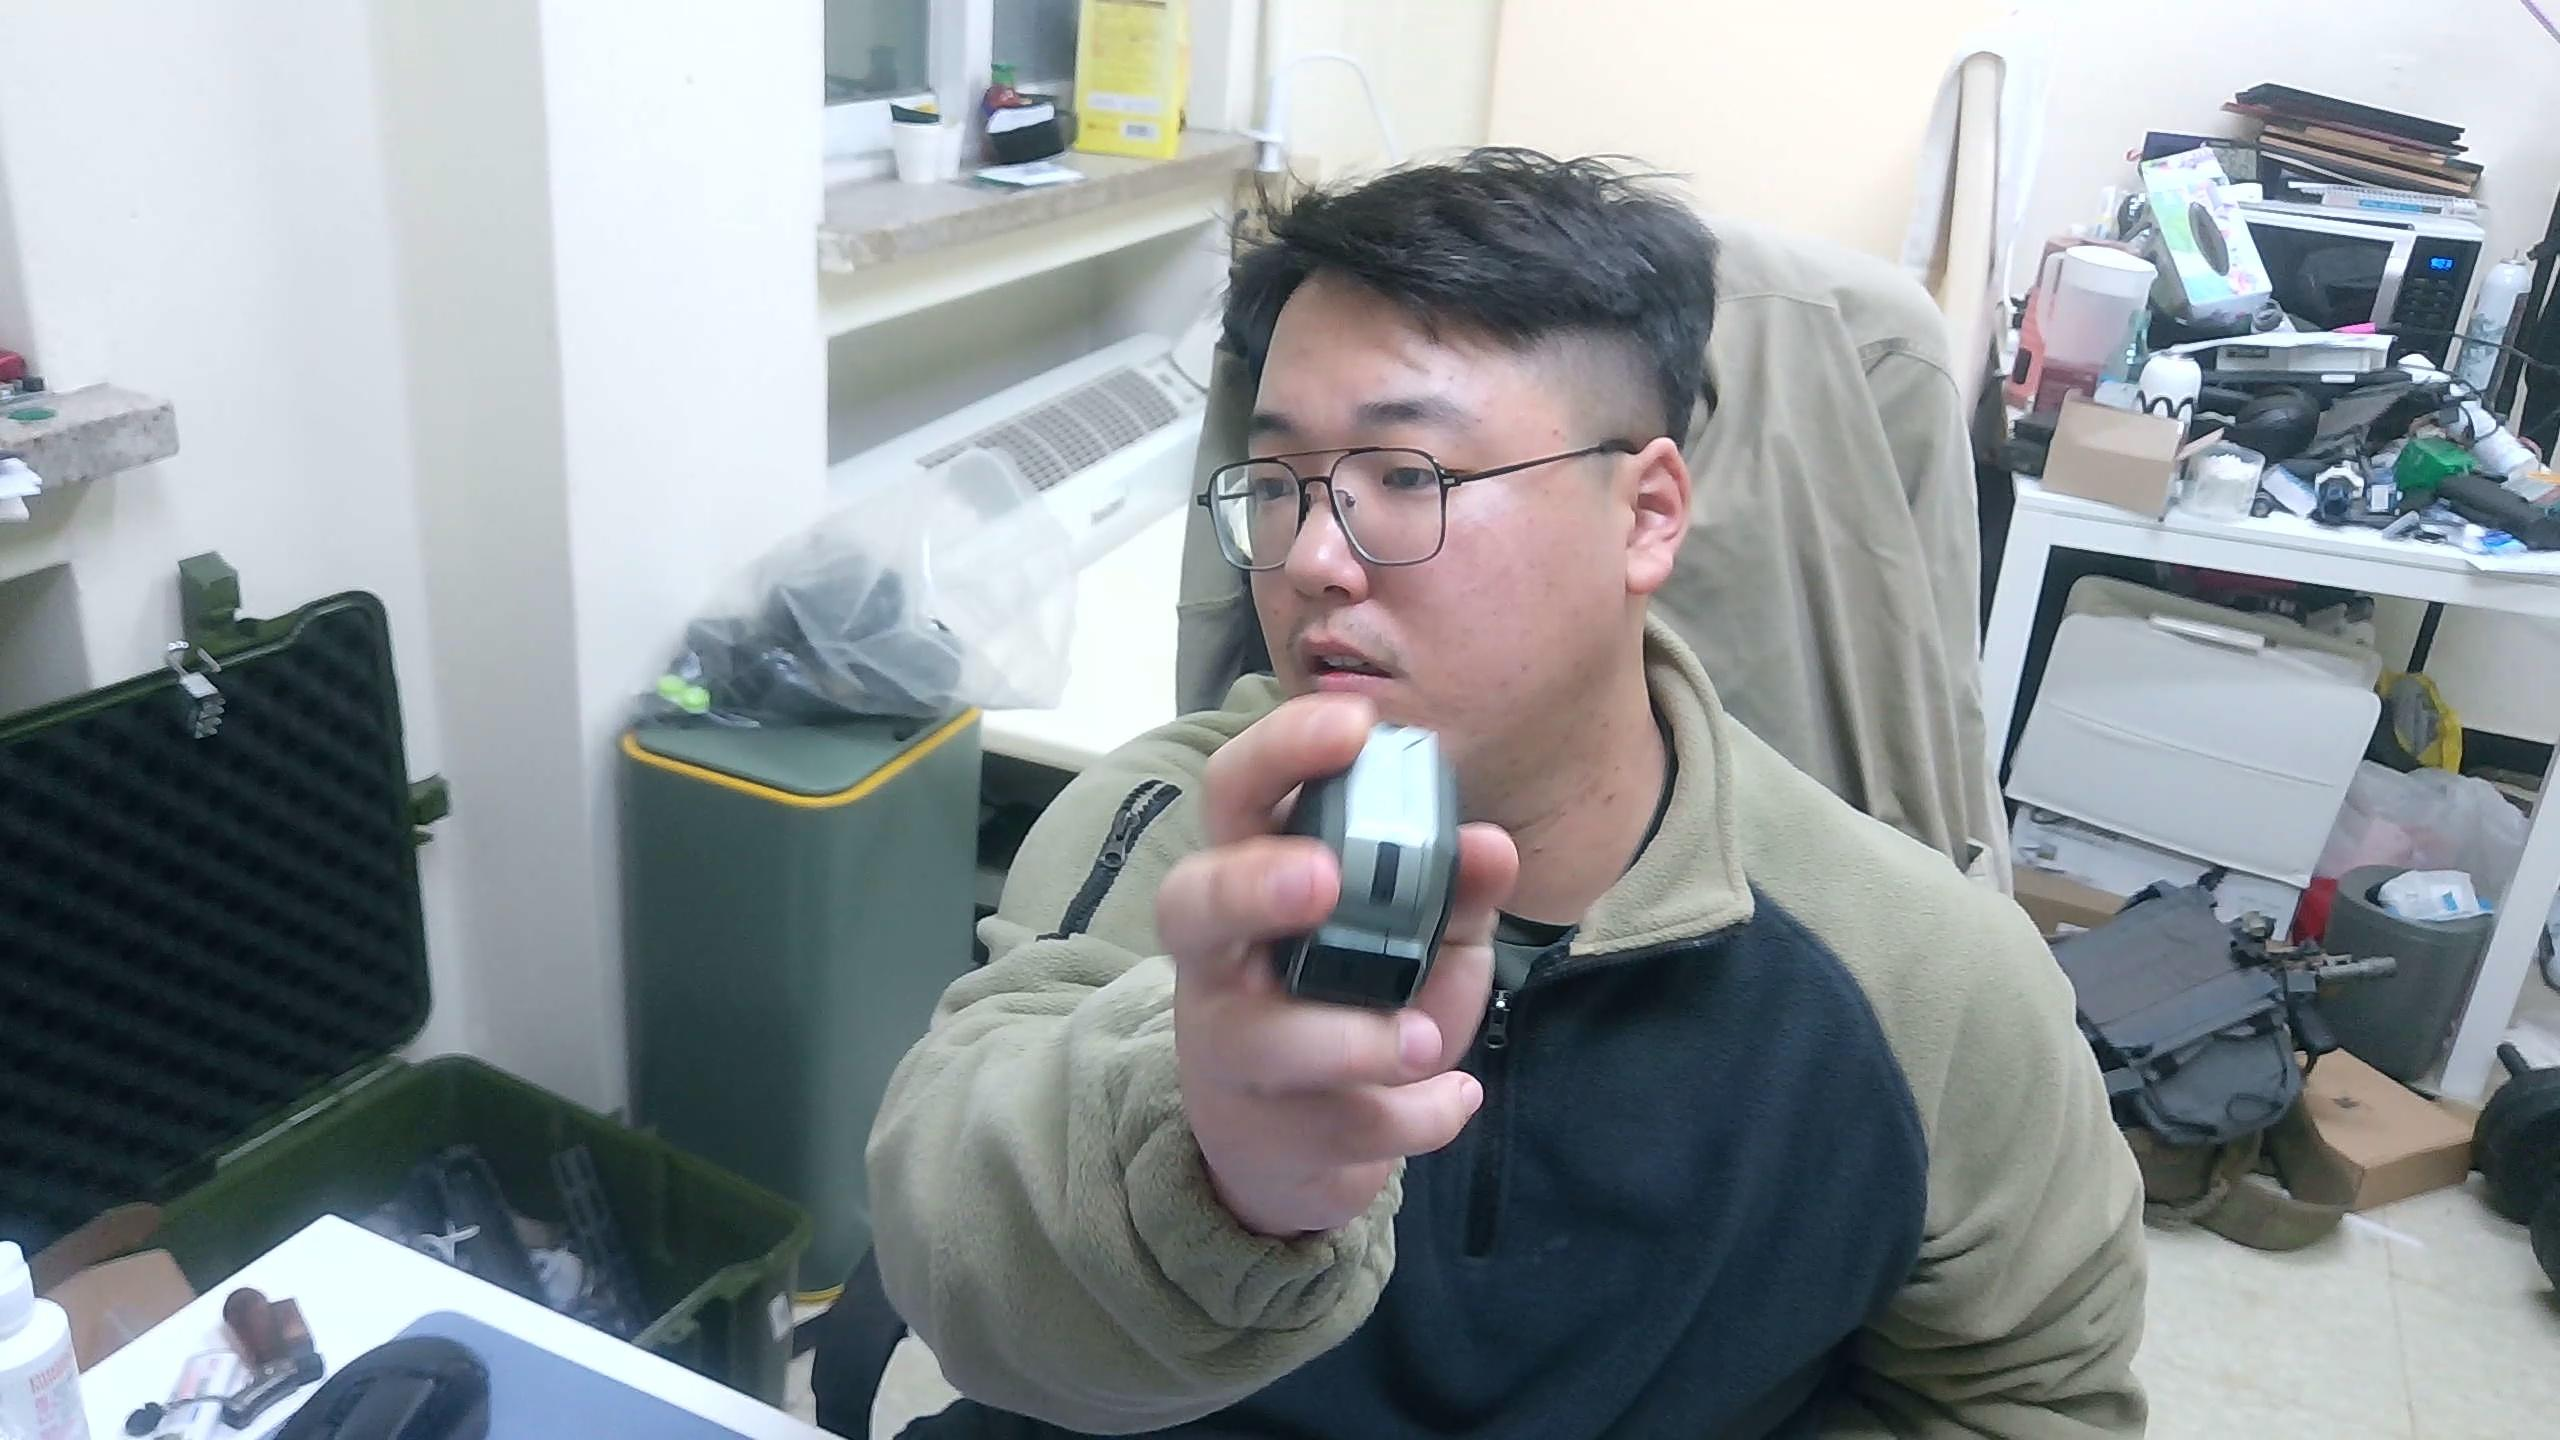blue_pliers: (1276, 717, 1463, 1013)
